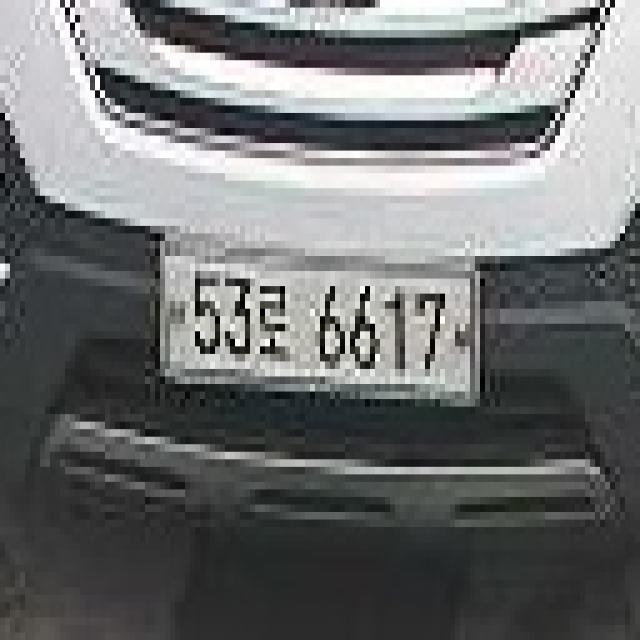1: (380, 271, 415, 377)
3: (220, 264, 255, 346)
5: (190, 256, 220, 361)
6: (340, 256, 380, 369), (310, 263, 350, 369)
7: (410, 278, 455, 376)
license_plate: (155, 256, 495, 392)
lo: (250, 271, 300, 361)
